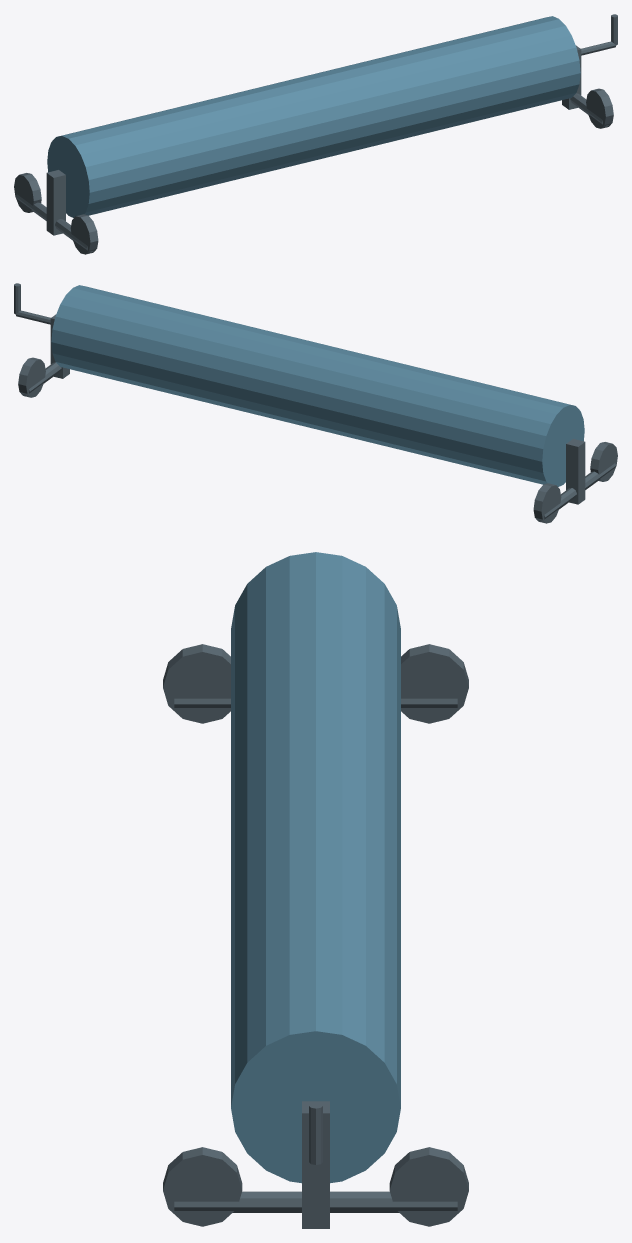
File: american-football-stadium-kit-field-tarp-roller-2ca4cd7a__22396.glb
3 views of the same model, one above another, from view 1: azimuth 30°, elevation 25°; view 2: azimuth 150°, elevation 25°; view 3: azimuth 270°, elevation 25° (orthographic). The views are drawn at different scales.
Visible parts, largest first — view 1: field-tarp-roller, wheel--2.1-0.4, wheel-2.1-0.4, wheel--2.1--0.4; view 2: field-tarp-roller, wheel--2.1--0.4, wheel-2.1--0.4, wheel--2.1-0.4; view 3: field-tarp-roller, wheel-2.1--0.4, wheel-2.1-0.4, wheel--2.1--0.4, wheel--2.1-0.4.
Part boxes in pixels (x1=…): field-tarp-roller: x1=16, y1=14, x2=617, y2=252; wheel--2.1-0.4: x1=70, y1=214, x2=98, y2=254; wheel-2.1-0.4: x1=586, y1=88, x2=613, y2=128; wheel--2.1--0.4: x1=14, y1=173, x2=41, y2=212; field-tarp-roller: x1=14, y1=283, x2=615, y2=521; wheel--2.1--0.4: x1=533, y1=483, x2=561, y2=523; wheel-2.1--0.4: x1=18, y1=357, x2=45, y2=397; wheel--2.1-0.4: x1=590, y1=442, x2=617, y2=481; field-tarp-roller: x1=174, y1=552, x2=457, y2=1228; wheel-2.1--0.4: x1=389, y1=1147, x2=468, y2=1226; wheel-2.1-0.4: x1=163, y1=1147, x2=242, y2=1226; wheel--2.1--0.4: x1=401, y1=644, x2=468, y2=723; wheel--2.1-0.4: x1=163, y1=644, x2=230, y2=723.
Size of the model in its own units: 4.62 by 0.7001 by 1.08.
